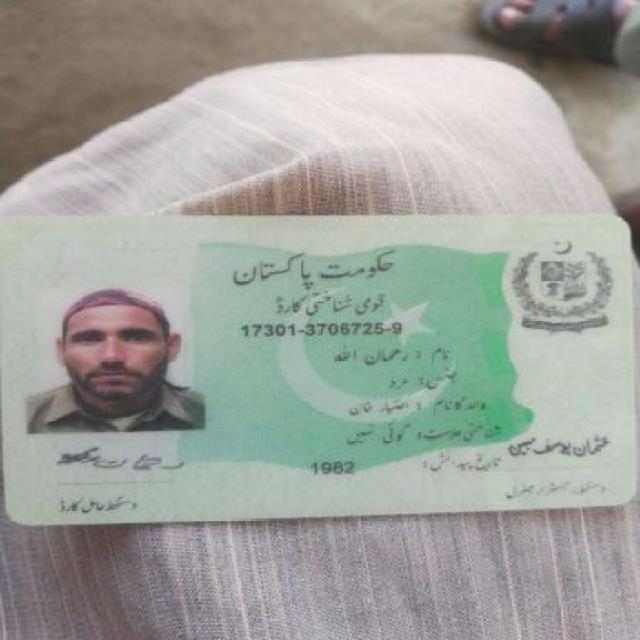Front: (3, 212, 629, 510)
